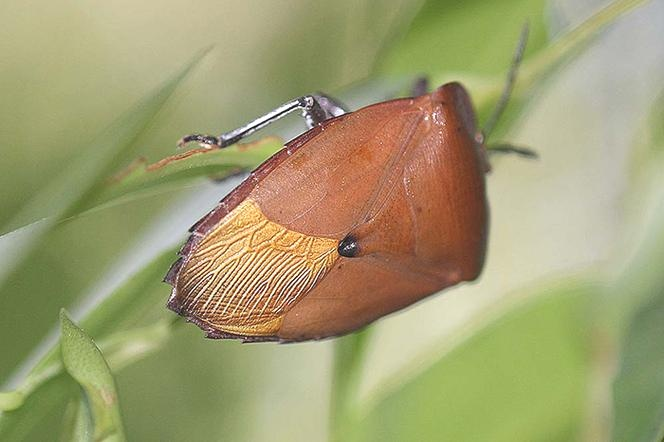Stink_Bug: (195, 86, 504, 330)
